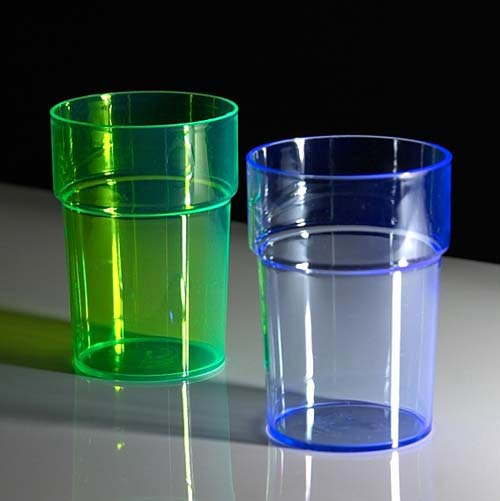plastic_glass: (243, 123, 457, 460), (43, 73, 244, 390)
